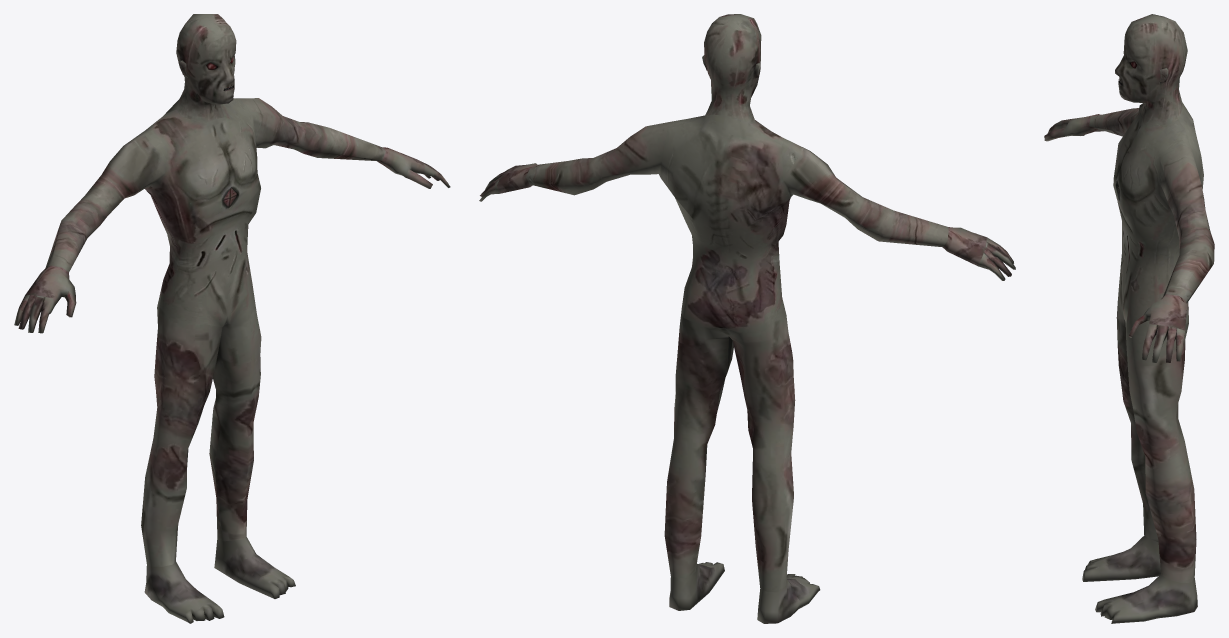
File: Zombie.glb
3 renders of one model, left to right at view 1: azimuth 30°, elevation 25°; view 2: azimuth 150°, elevation 25°; view 3: azimuth 270°, elevation 25°, orthographic. The views are drawn at different scales.
Parts seen in each view (by area): view 1: NormalDemon; view 2: NormalDemon; view 3: NormalDemon.
Boxes of the visible parts, <box> form: NormalDemon: <box>14,14,450,623</box>; NormalDemon: <box>479,14,1015,623</box>; NormalDemon: <box>1044,14,1214,623</box>.
Bounding box in the file's own units: 1.5 × 1.75 × 0.4698.
Materials: 1 (1 with a texture image).
